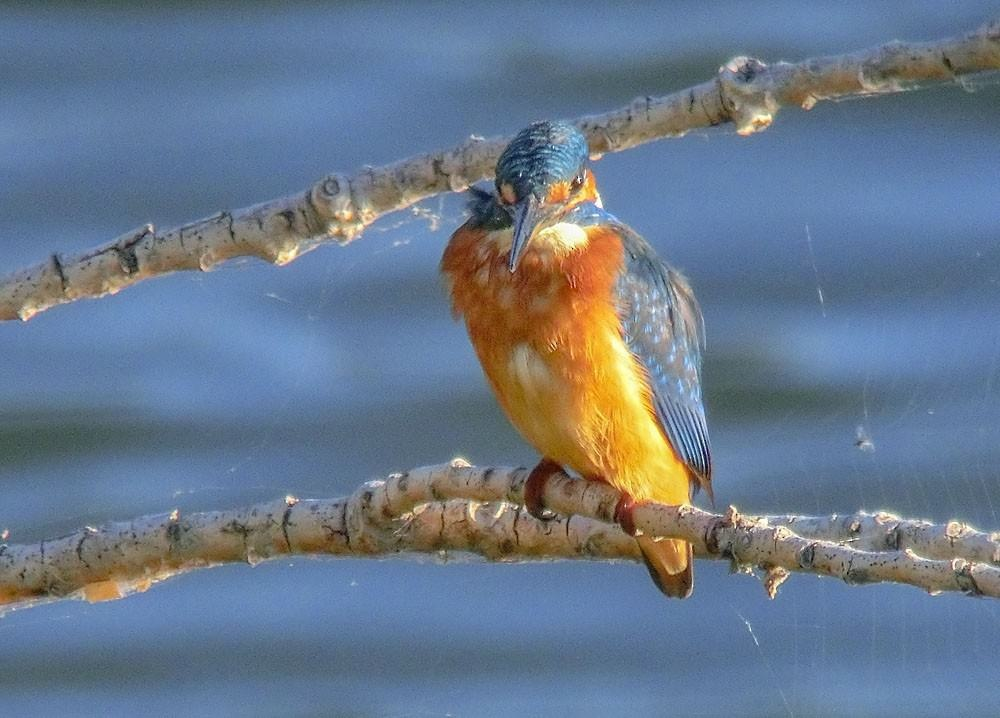kingfisher: (424, 132, 772, 606)
